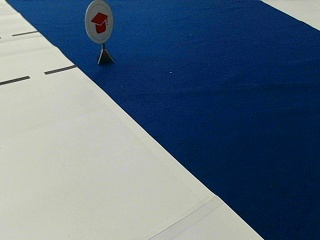school: (83, 1, 114, 42)
